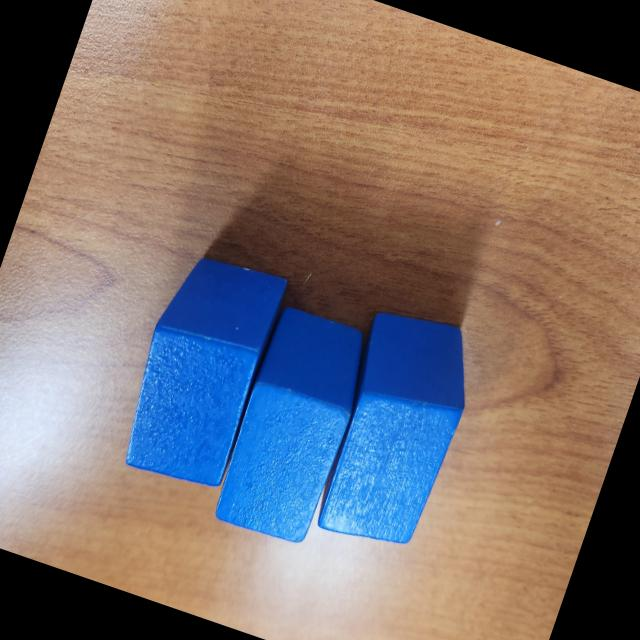blue: (302, 298, 490, 560), (107, 243, 294, 500), (207, 302, 379, 550)
